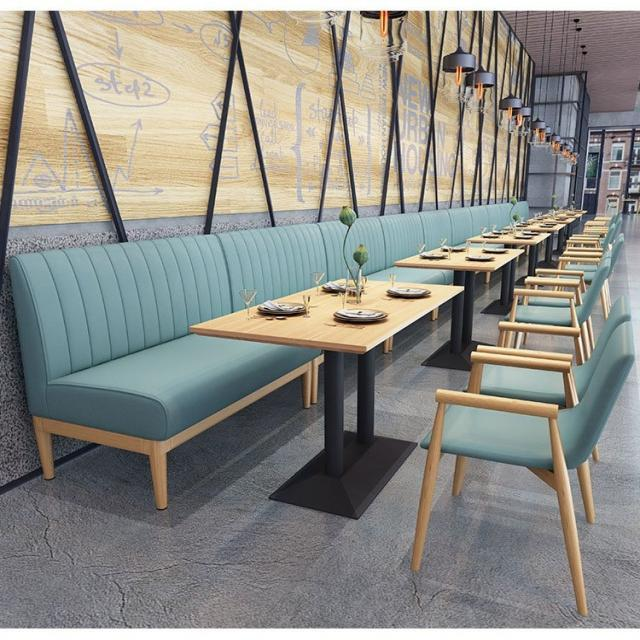table: (194, 264, 464, 373), (407, 220, 529, 286)
